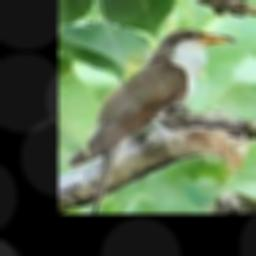Cuckoo: (69, 28, 237, 212)
